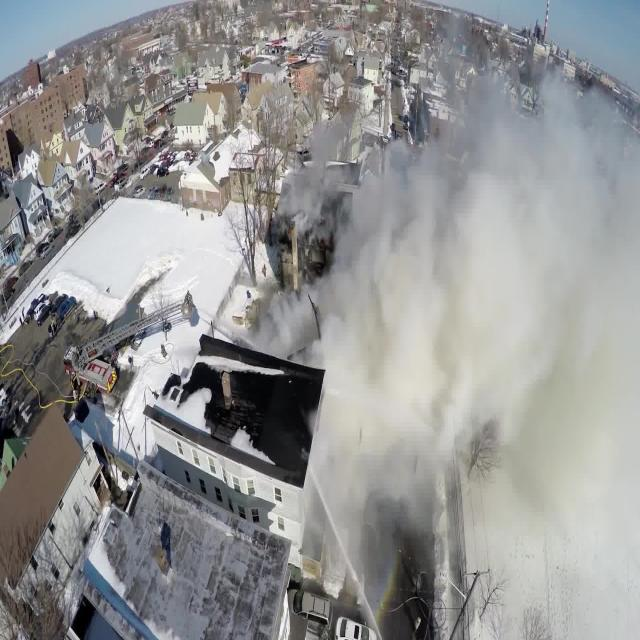smoke: (372, 150, 636, 564)
